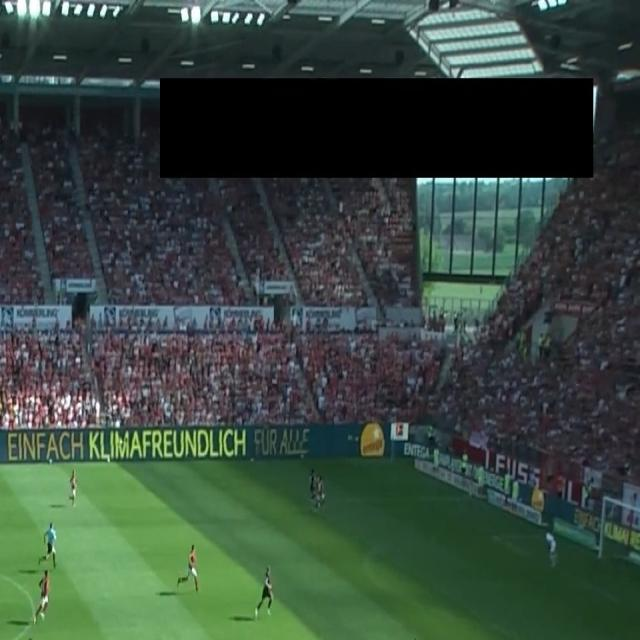ball: (321, 492, 325, 500)
